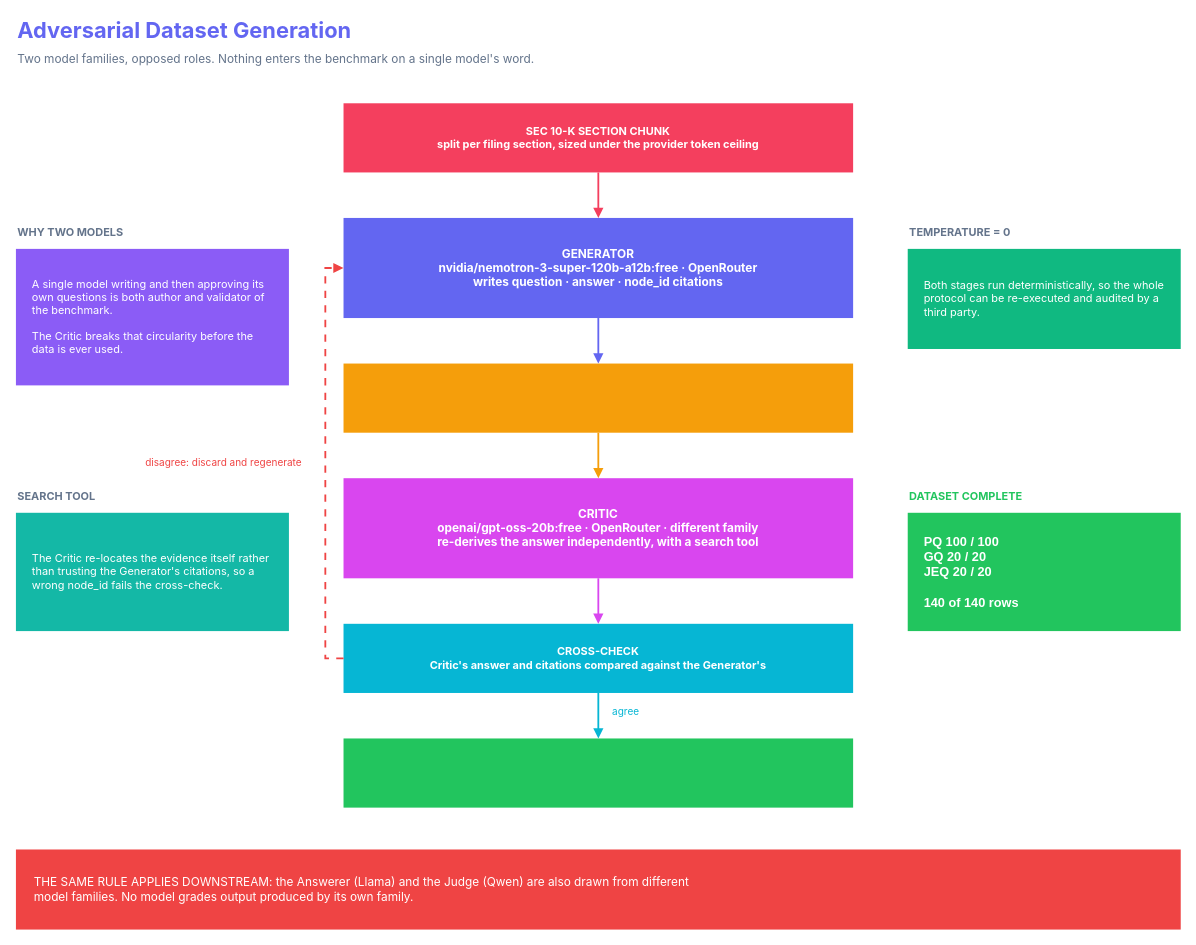
The diagram is 1196 pixels wide and 945 high, and some of its shapes have lost their labels. The centre of each missing label's shape, as x and y in pixels:
ACCEPTED INTO THE POOL written to SQLite, assigned to PQ / GQ / JEQ: pixel 598 772
CANDIDATE RECORD question · expected answer · cited node_ids · quadrant label: pixel 598 397
